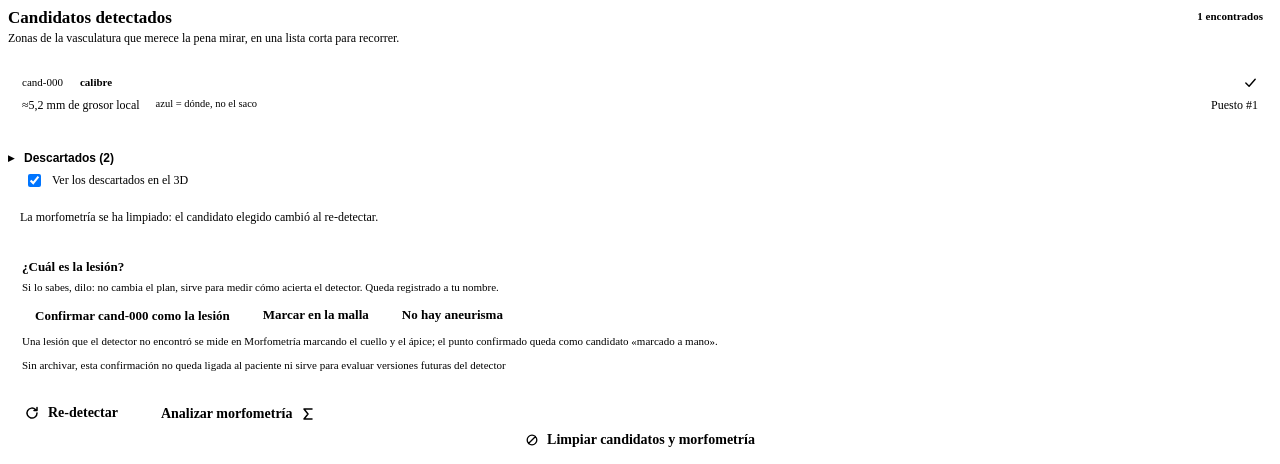
DetectPanel › re-detectar sin invalidación oculta el aviso
Expected: the text "La morfometría se ha limpiado: el candidato elegido cambió al re-detectar." is shown, [20,210,378,224]
Click the button "Re-detectar".
click(71, 413)  # box [8,404,134,422]
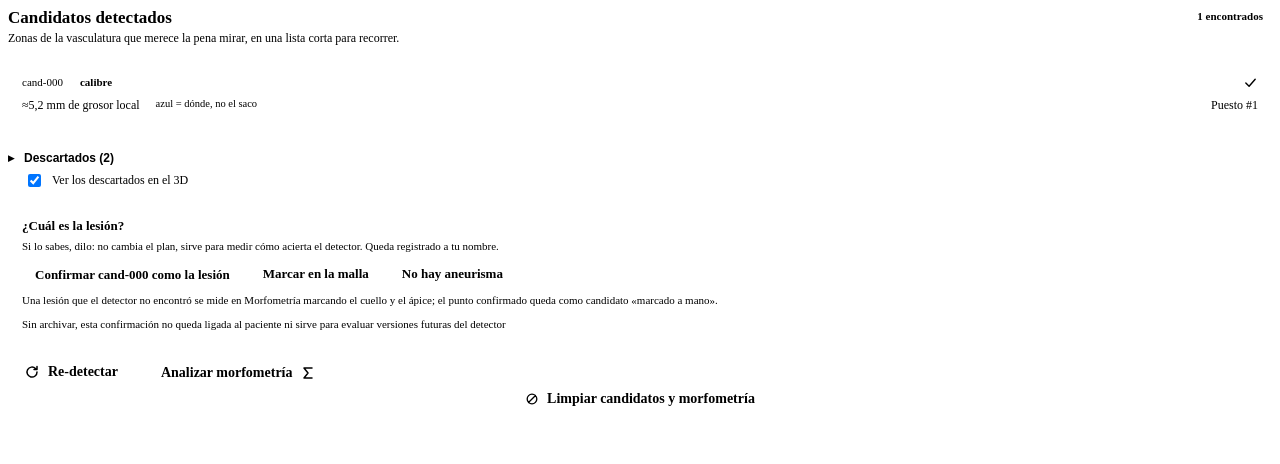
Expected: the text "Puesto #1" is shown, [1211,98,1258,113]
Expected: the text "La morfometría se ha limpiado" is gone
